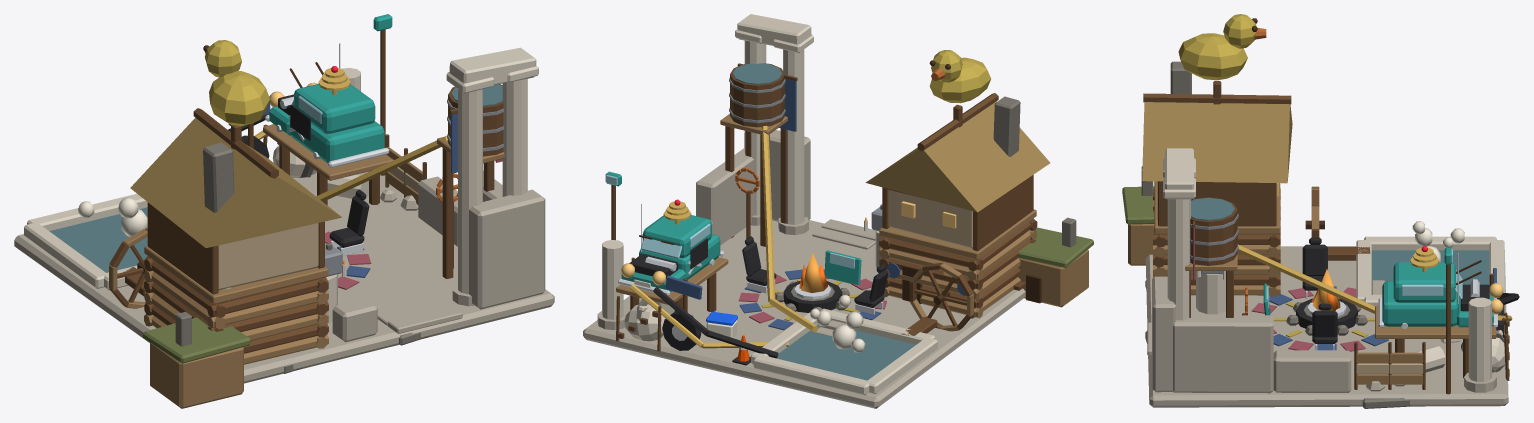
The model's file is hearth_l4.fbx.
The picture shows the model from 3 angles, left to right: view 1: azimuth 30°, elevation 25°; view 2: azimuth 150°, elevation 25°; view 3: azimuth 270°, elevation 25°; orthographic projection. The views are drawn at different scales.
Visible parts, largest first — view 1: Ruin, TimeMachine, Stilts, Steam; view 2: Ruin, TimeMachine, Stilts, Hoses, Steam, Fire; view 3: Ruin, TimeMachine, Stilts, Steam, Fire.
Part boxes in pixels (<box>): Ruin: <box>14,14,554,408</box>; TimeMachine: <box>265,43,389,167</box>; Stilts: <box>263,124,393,205</box>; Steam: <box>78,197,147,236</box>; Ruin: <box>583,14,1093,408</box>; TimeMachine: <box>618,199,724,295</box>; Stilts: <box>616,257,728,351</box>; Hoses: <box>630,284,788,358</box>; Steam: <box>810,295,865,352</box>; Fire: <box>799,253,828,292</box>; Ruin: <box>1122,14,1508,408</box>; TimeMachine: <box>1378,246,1503,328</box>; Stilts: <box>1375,305,1509,380</box>; Steam: <box>1412,221,1464,262</box>; Fire: <box>1311,269,1340,310</box>.
Size of the model in its own units: 4.26 by 4.09 by 3.06.
